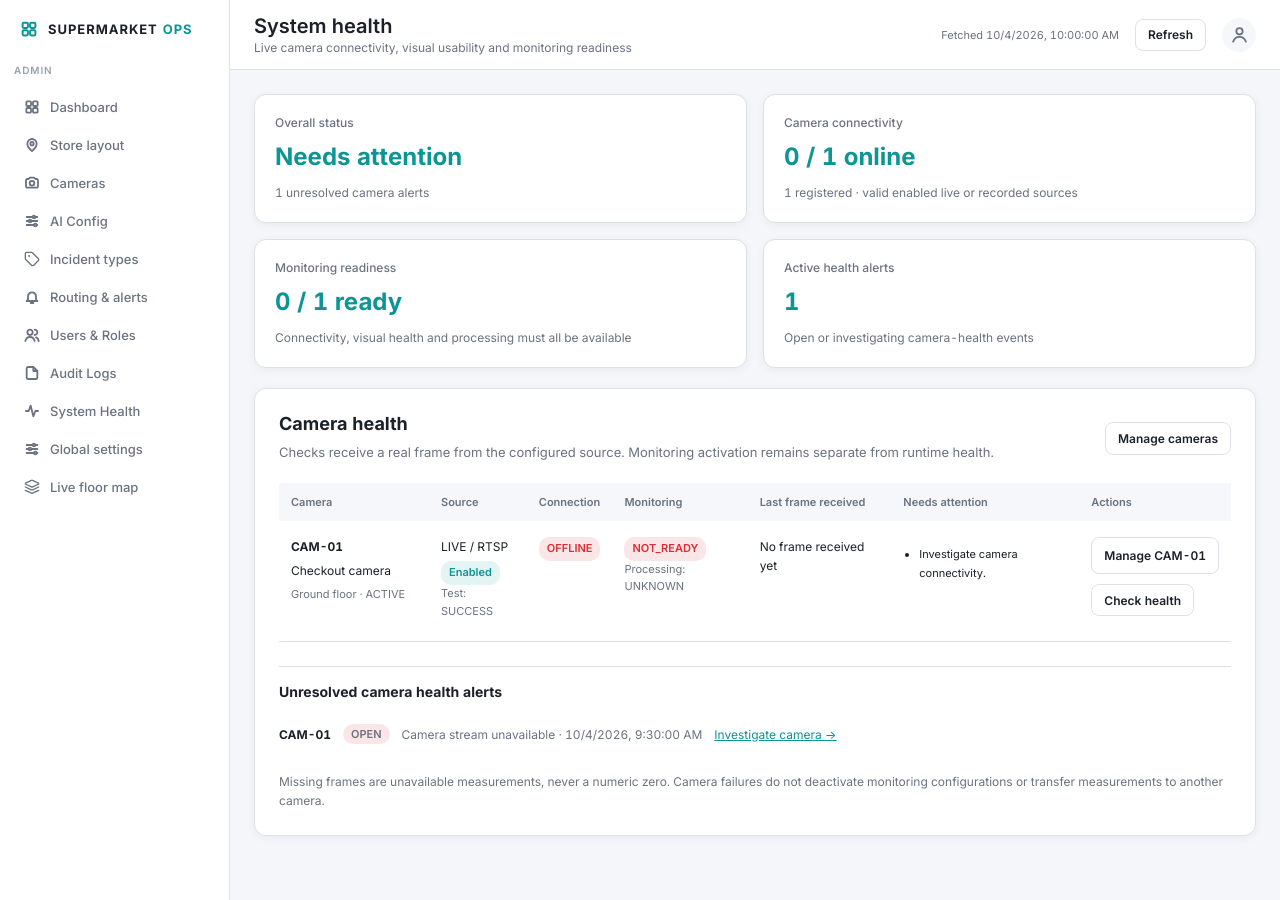
Scenario: System health › checks a real configured camera and reloads server health
expect the text "OFFLINE" is shown: met, box [539, 537, 600, 561]
Click the button "Check health" at {"x": 1143, "y": 600}, box [1091, 584, 1194, 616]
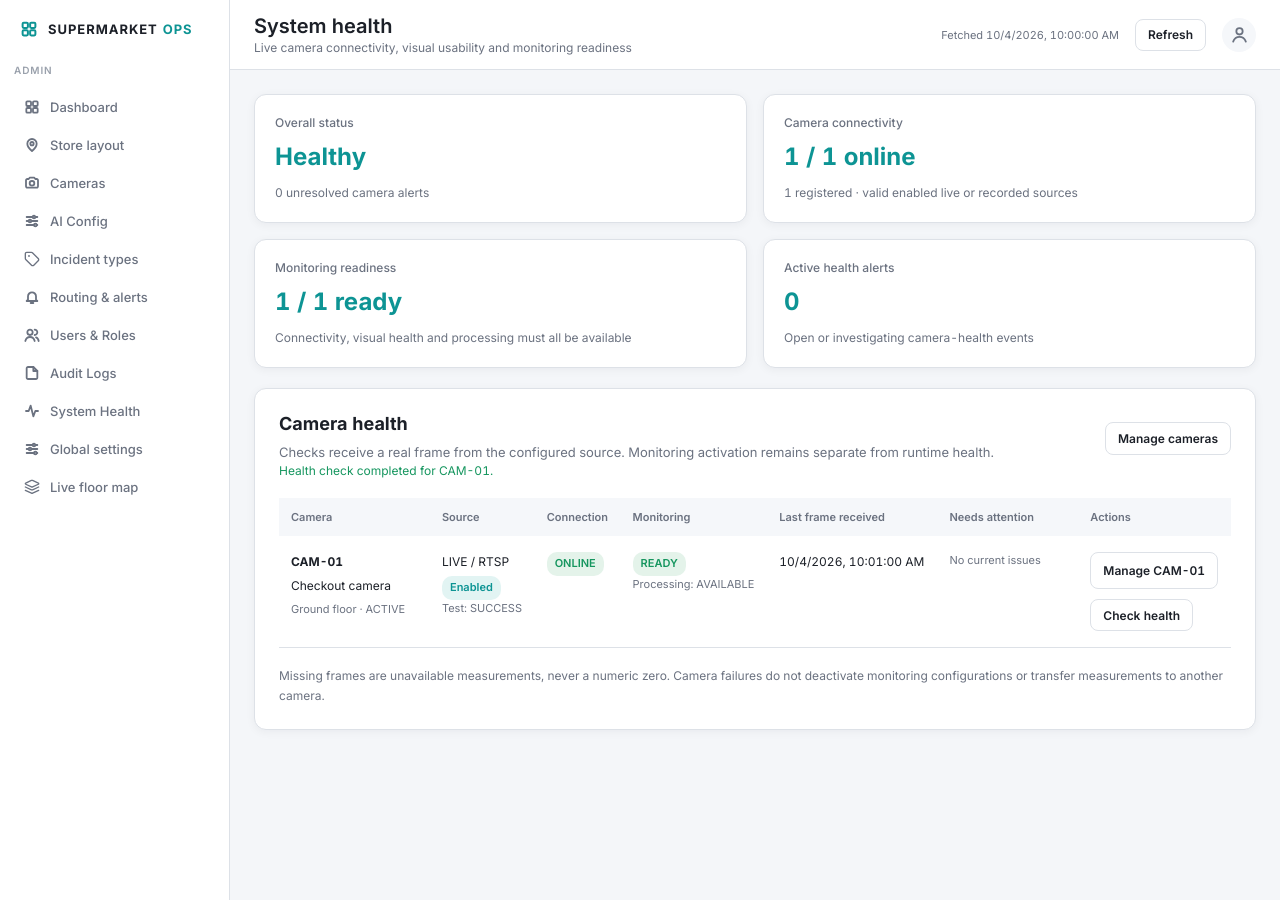
expect the text "ONLINE" is shown: met, box [547, 552, 604, 576]
expect the heading "Unresolved camera health alerts" is gone: met
